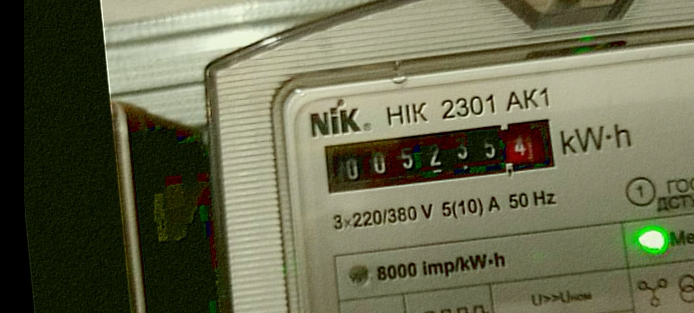0: (371, 150, 389, 175), (344, 155, 361, 181)
2: (426, 140, 444, 168)
3: (452, 135, 472, 161)
4: (510, 129, 531, 160)
5: (480, 131, 499, 161), (399, 144, 415, 171)
screen: (310, 107, 566, 203)
